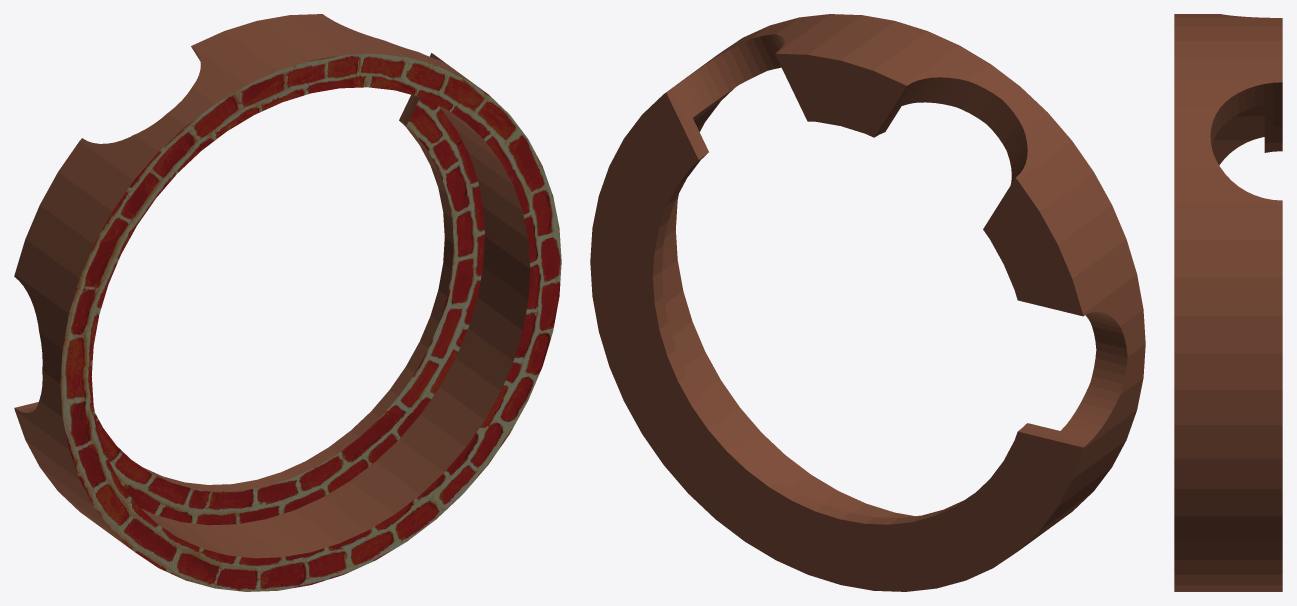
Rendered from pool_057.obj.
3 renders of one model, left to right at view 1: azimuth 30°, elevation 25°; view 2: azimuth 150°, elevation 25°; view 3: azimuth 270°, elevation 25°, orthographic.
Size of the model in its own units: 16 by 16 by 3.
